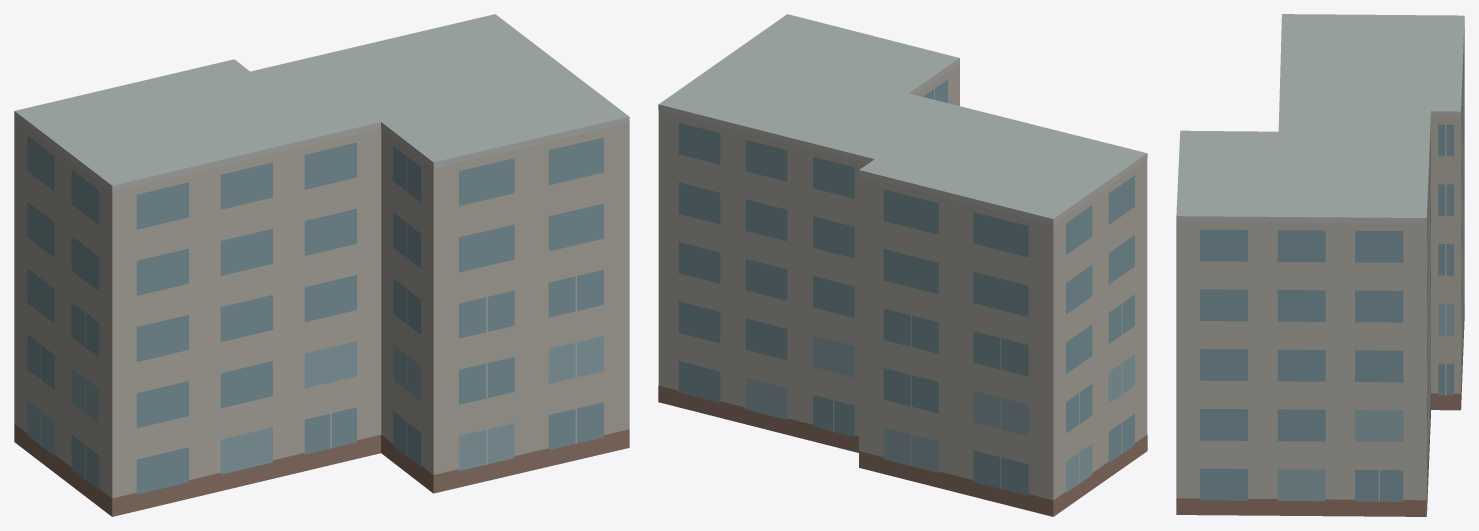
File: survey-upis-32965226.glb
3 views of the same model, side by side, from view 1: azimuth 30°, elevation 25°; view 2: azimuth 150°, elevation 25°; view 3: azimuth 270°, elevation 25° (orthographic). The views are drawn at different scales.
Visible parts, largest first — view 1: survey-upis-32965226.tmp; view 2: survey-upis-32965226.tmp; view 3: survey-upis-32965226.tmp.
Boxes of the visible parts, box(x1,y1,x2,y2) form: survey-upis-32965226.tmp: box(14, 14, 629, 516); survey-upis-32965226.tmp: box(658, 14, 1147, 516); survey-upis-32965226.tmp: box(1176, 14, 1464, 516).
Bounding box in the file's own units: 19.34 × 13.2 × 11.55.
